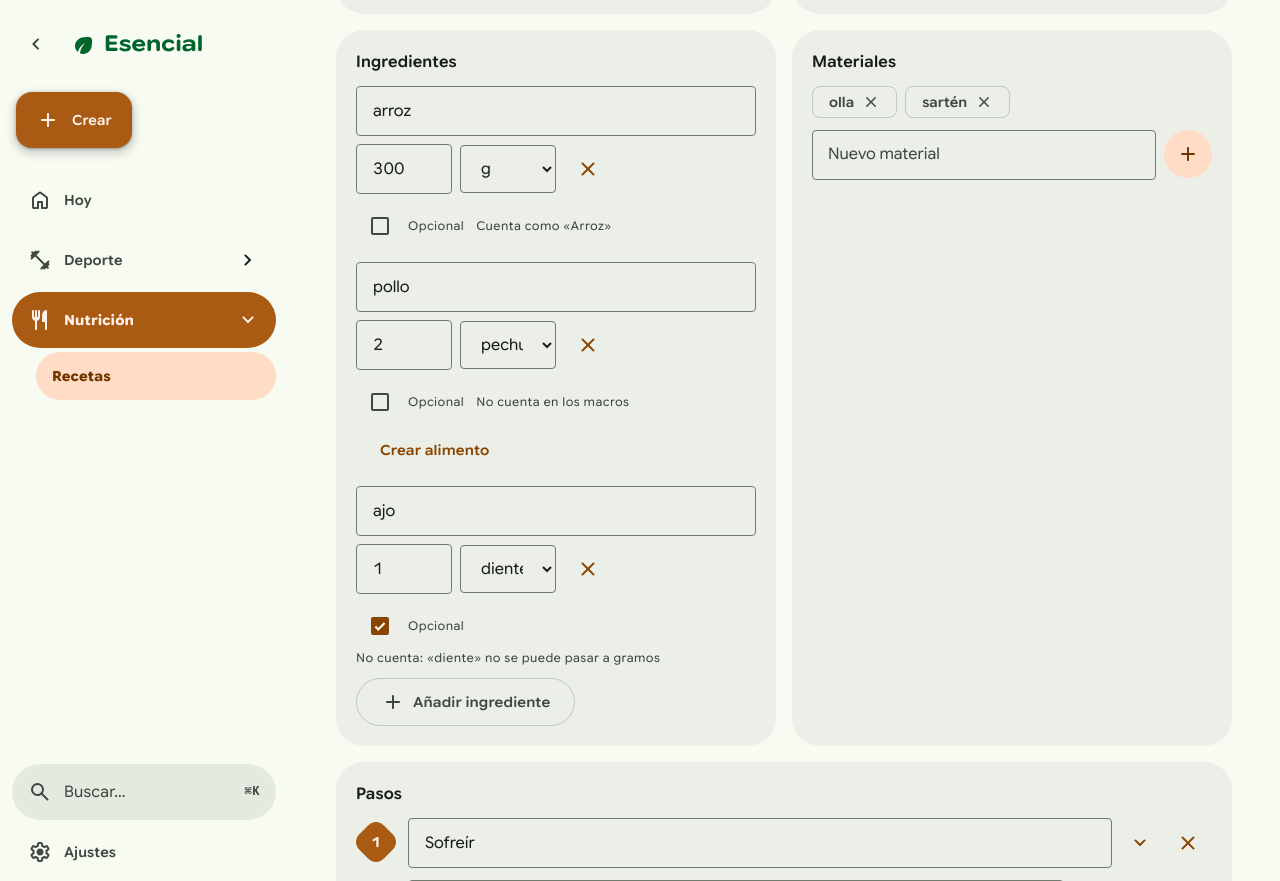
editor de receta: catálogo de alimentos › un nombre repetido muestra el error en el diálogo y no enlaza nada
(page scrolled)
Click the button with aria-label "Crear alimento para el ingrediente 2": (435, 450) [356,426,514,474]
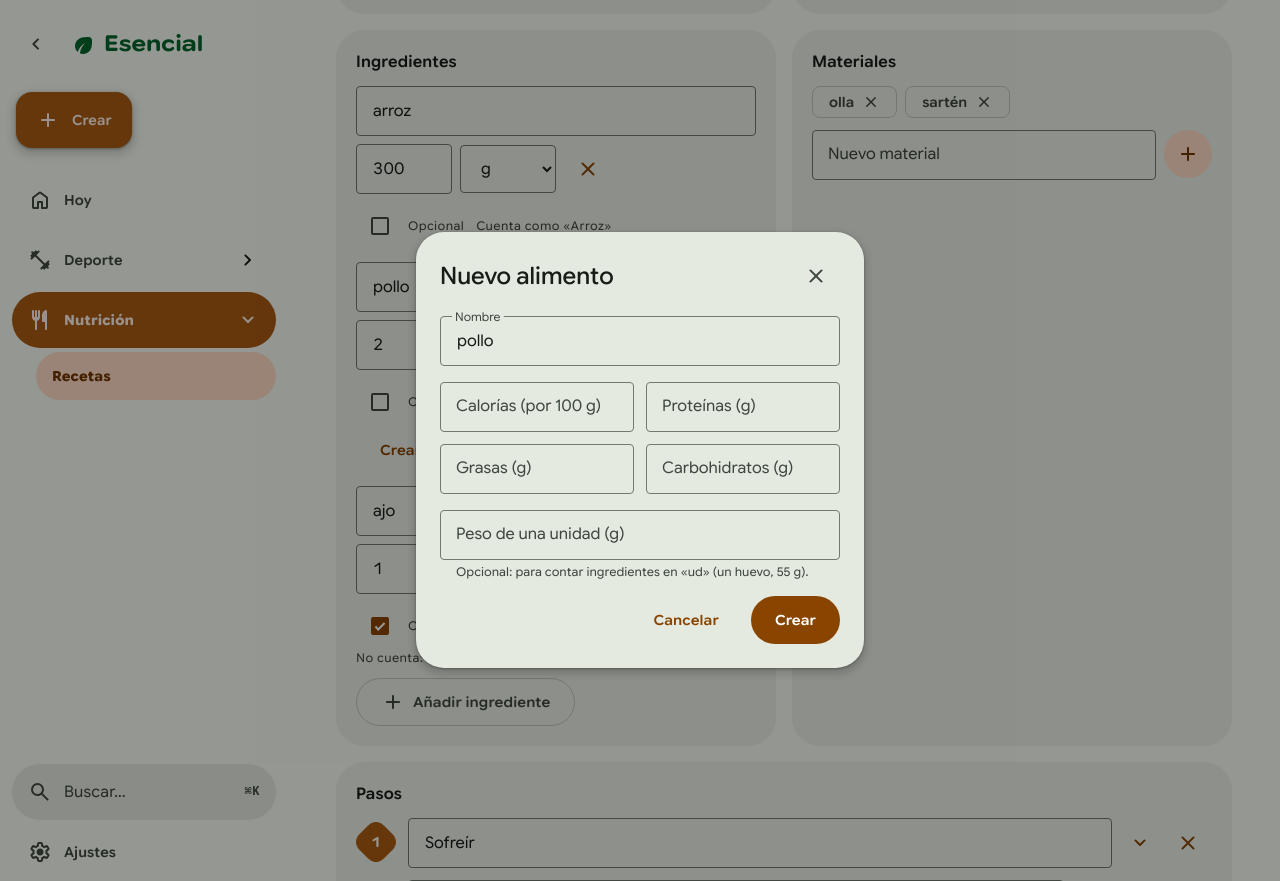
Replace the text in the field labelled "Nombre" with "Ajo": (640, 341) [440,316,840,366]
In the number field labelled "Calorías (por 100 g)": (537, 407) [440,382,634,432], type "1"
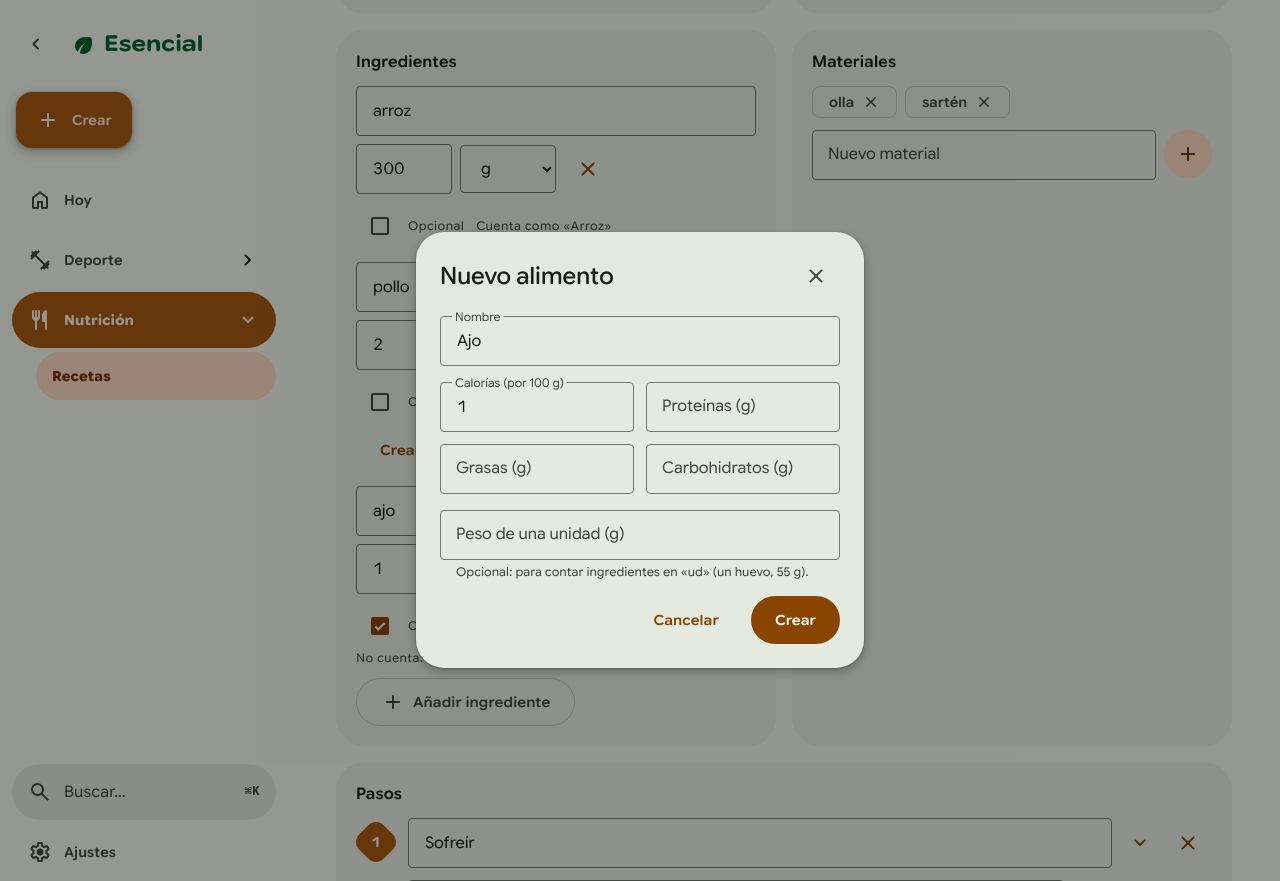
In the number field labelled "Proteínas (g)": (743, 407) [646,382,840,432], type "1"
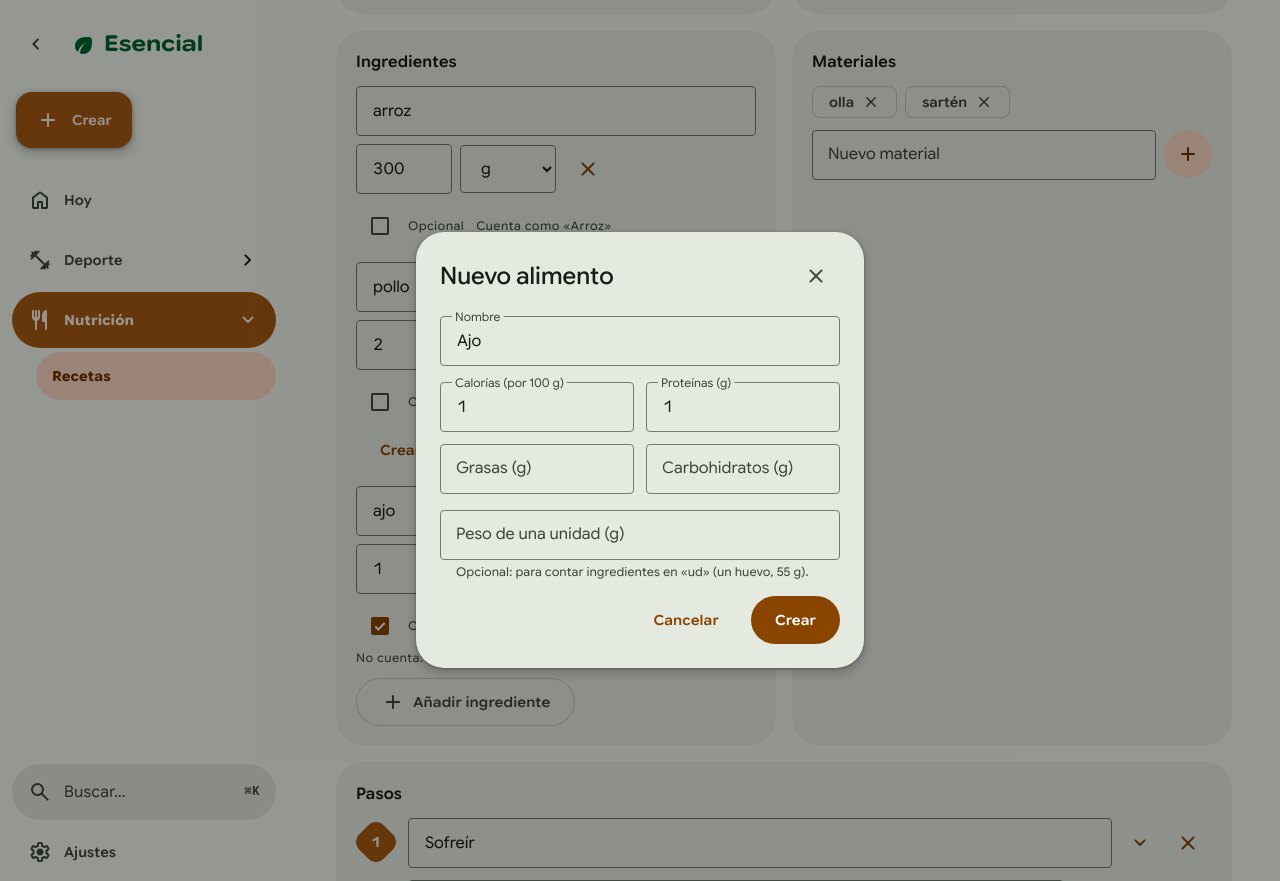
In the number field labelled "Grasas (g)": (537, 469) [440,444,634,494], type "1"
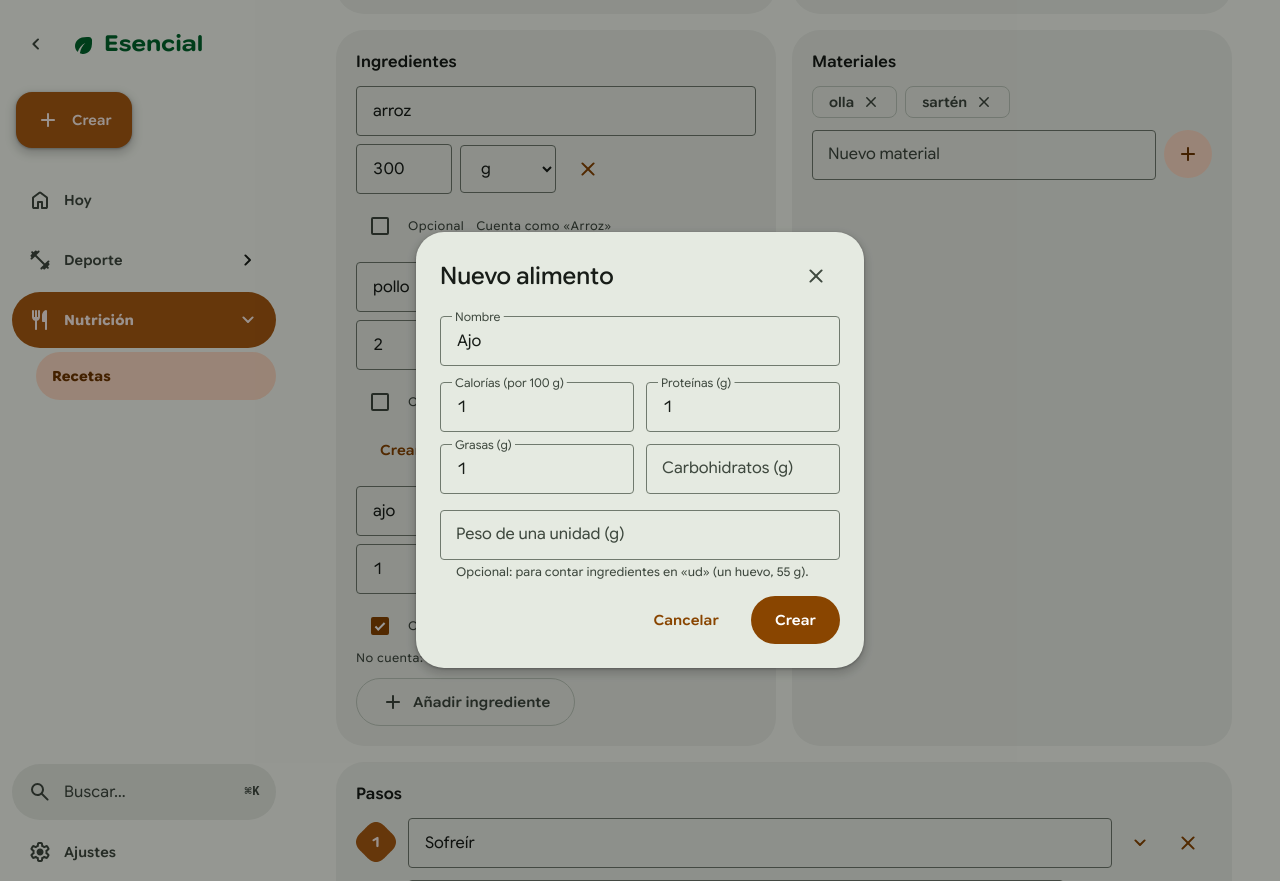
In the number field labelled "Carbohidratos (g)": (743, 469) [646,444,840,494], type "1"
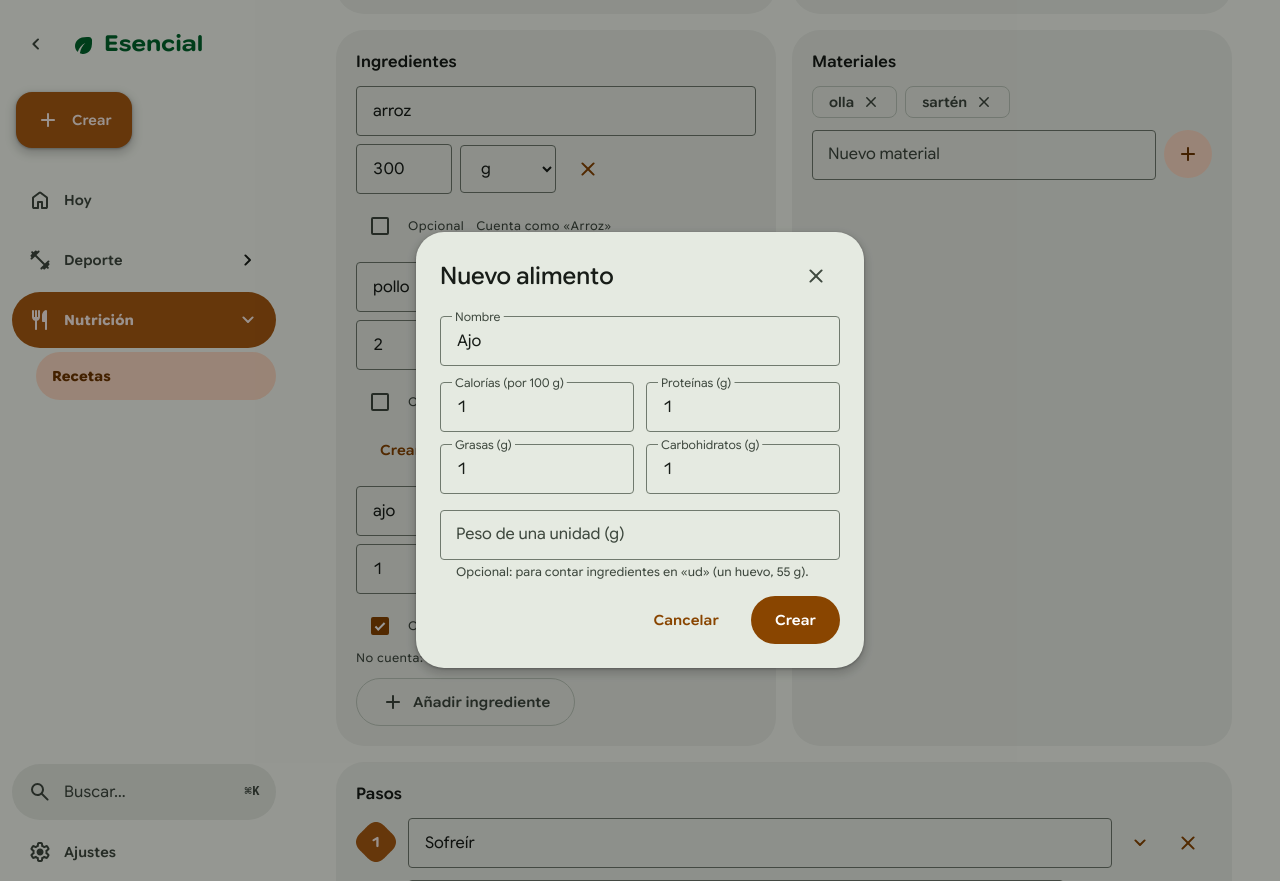
Click the button "Crear": (795, 620) [751,596,840,644]
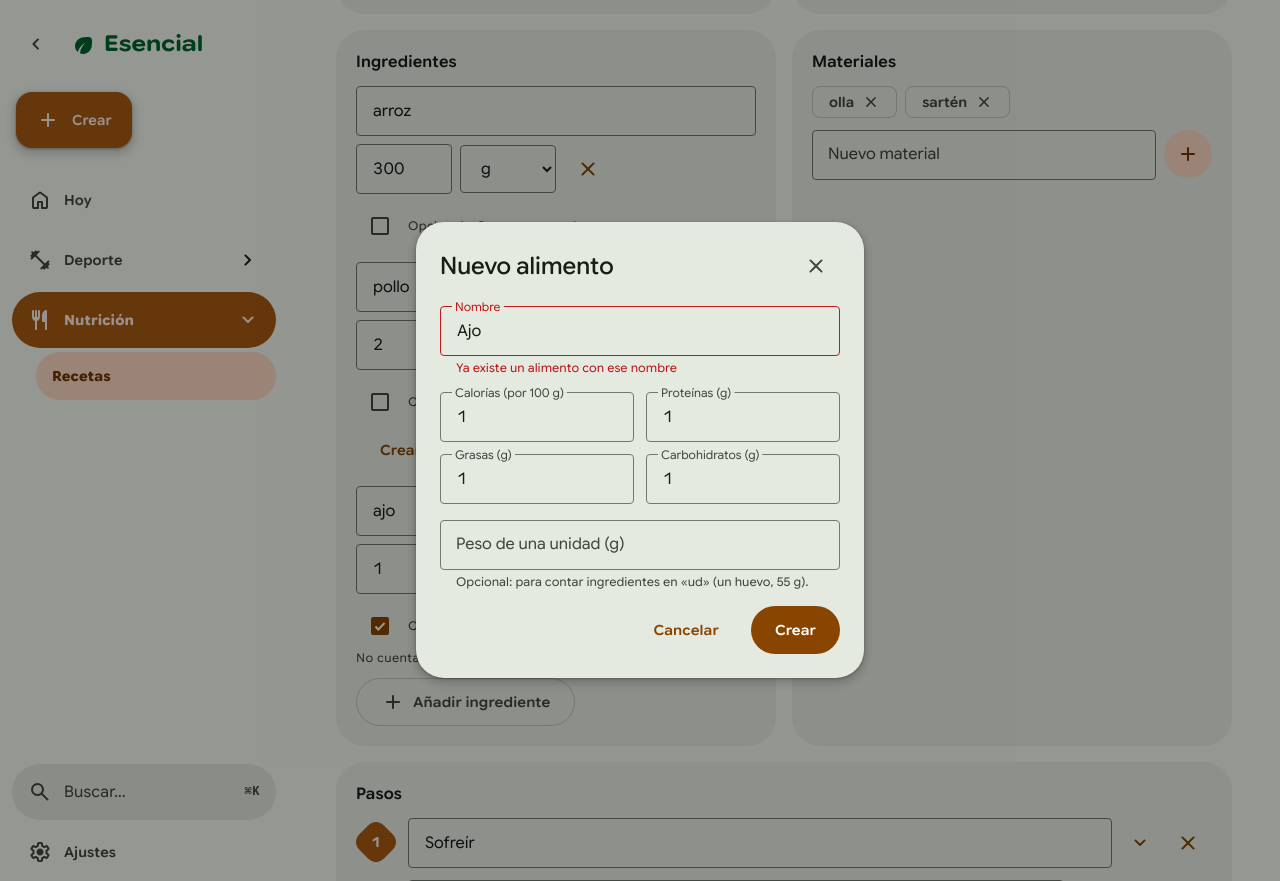
Result: the text "Ya existe un alimento con ese nombre" is shown at [456,360,677,375]
